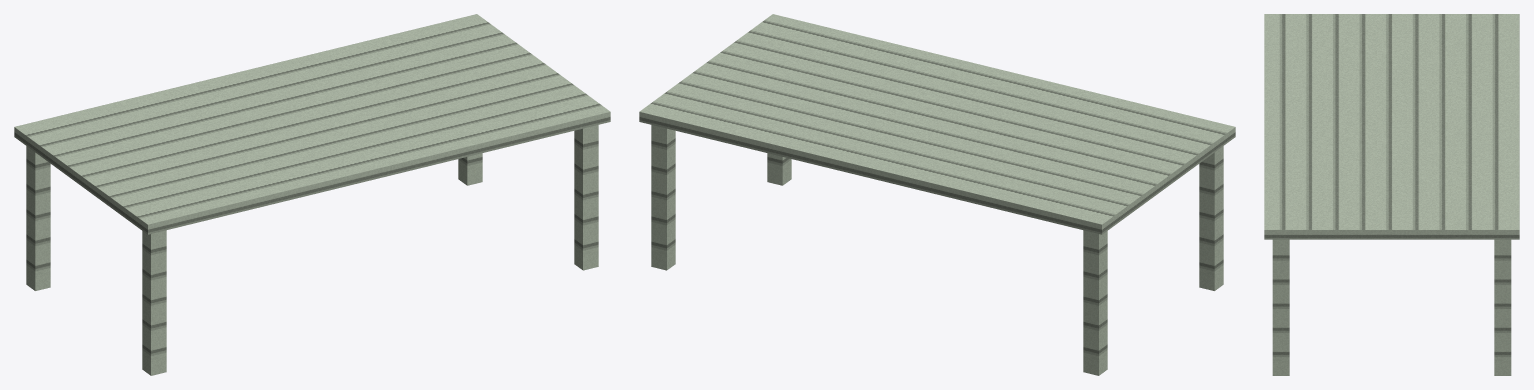
The model's file is conference_jury_table.glb.
3 views of the same model, side by side, from view 1: azimuth 30°, elevation 25°; view 2: azimuth 150°, elevation 25°; view 3: azimuth 270°, elevation 25° (orthographic). The views are drawn at different scales.
Parts seen in each view (by area): view 1: conference_jury_table-col; view 2: conference_jury_table-col; view 3: conference_jury_table-col.
Boxes of the visible parts, bbox=[...] form: conference_jury_table-col: bbox=[14, 14, 610, 375]; conference_jury_table-col: bbox=[639, 14, 1235, 375]; conference_jury_table-col: bbox=[1264, 14, 1519, 375].
Bounding box in the file's own units: 2.4 × 0.775 × 1.2.
Materials: 1 (1 with a texture image).
